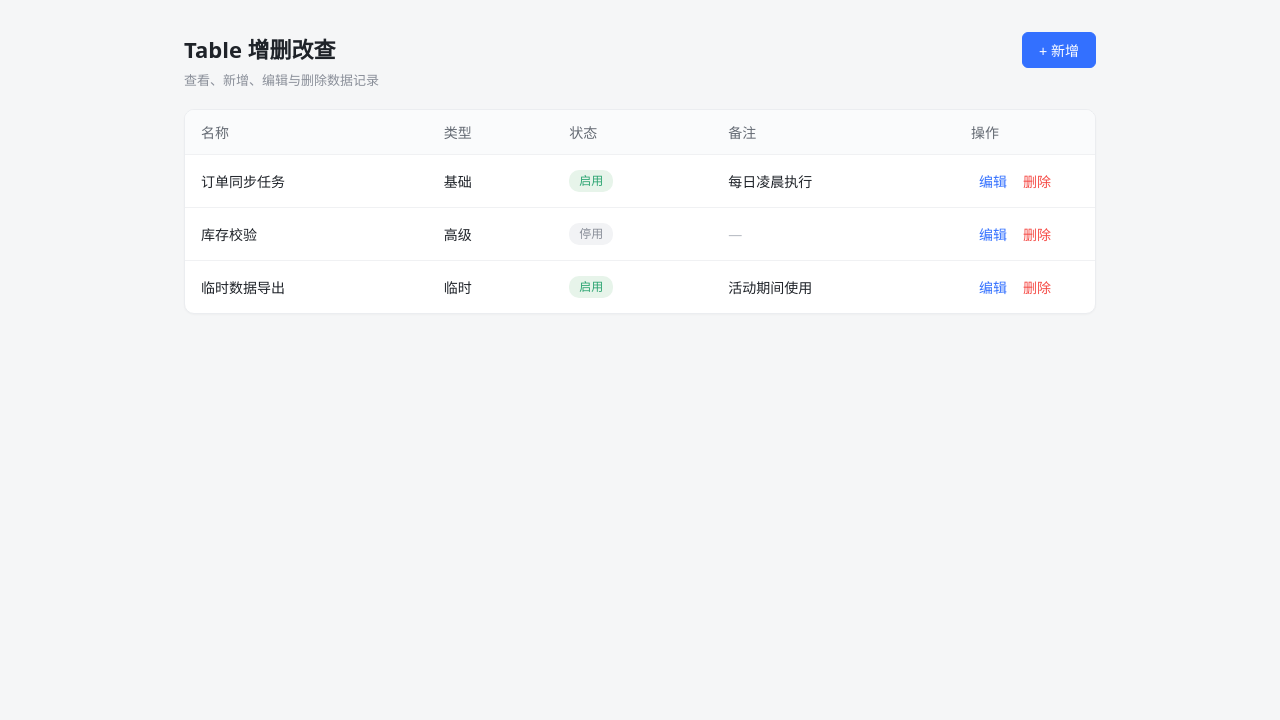
Test case: App CRUD 流程 › 校验：必填项为空时不提交
Expected: the text "订单同步任务" is shown, [185,154,428,208]
Click the button "+ 新增": (1059, 50) [1022,32,1096,68]
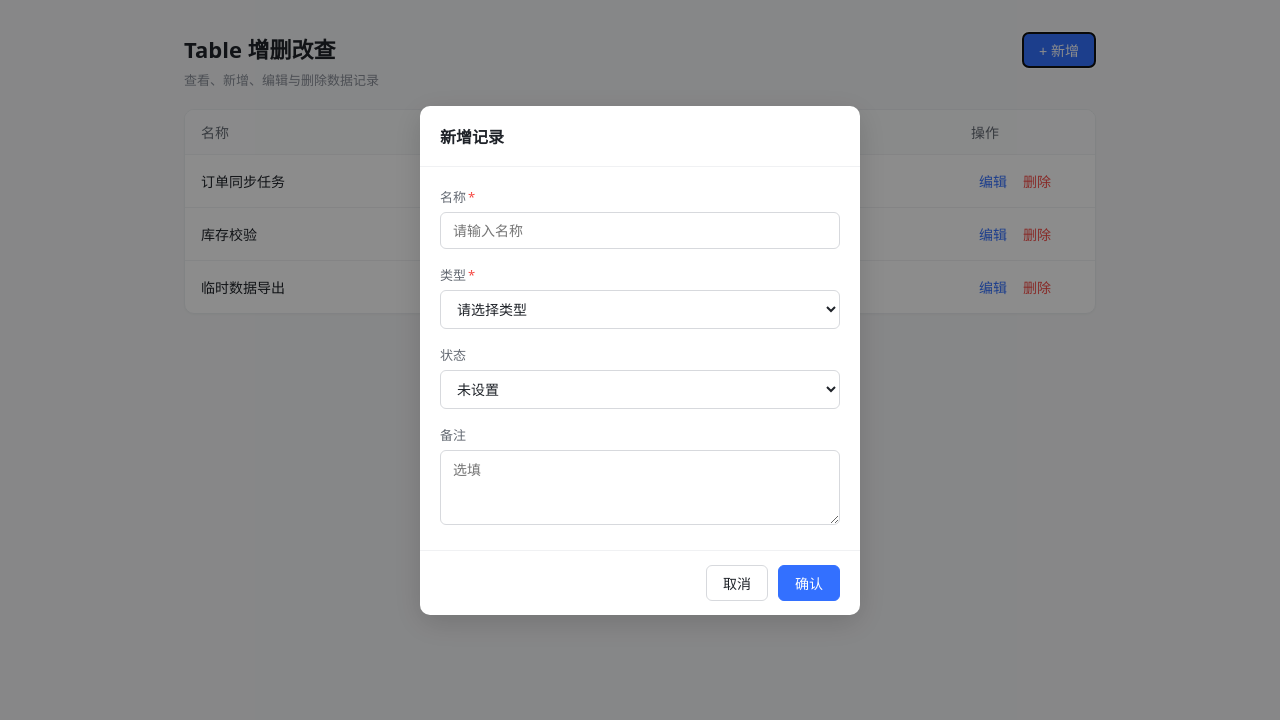
Click the button "确认": (809, 582) [778,564,840,600]
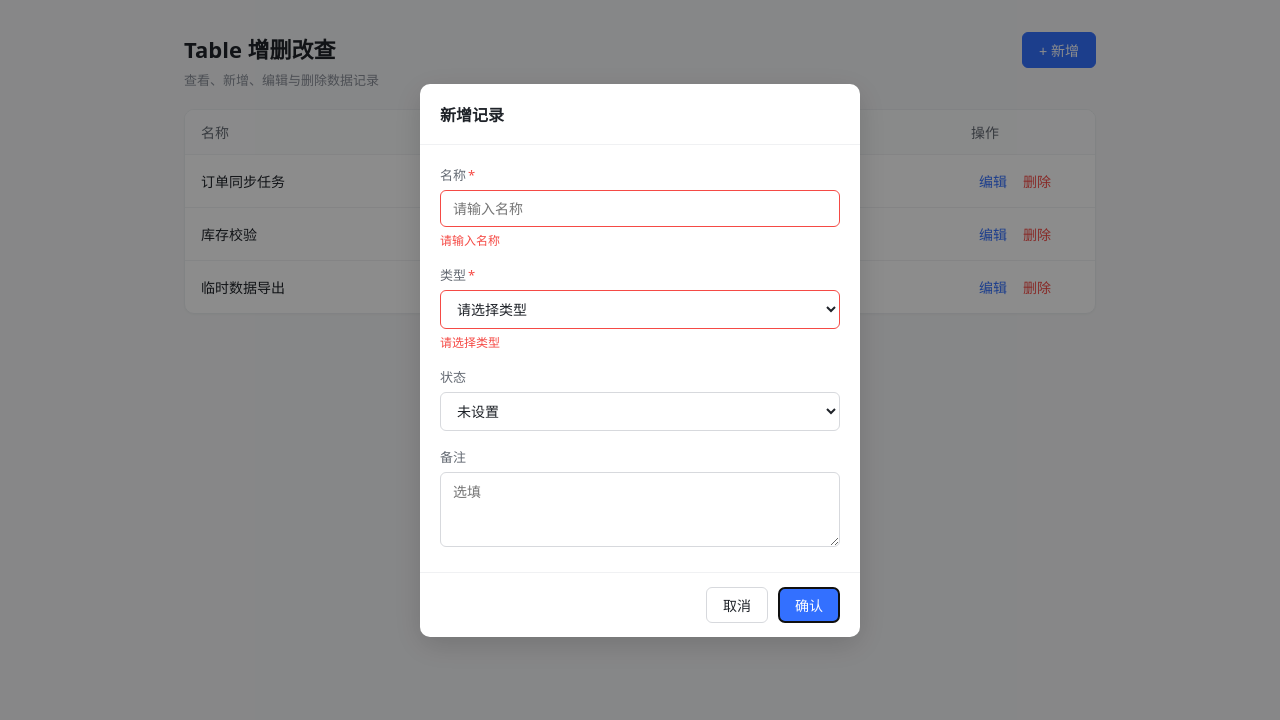
Now the text "新增记录" is shown, box [420,84,860,144]
Now the text "请输入名称" is shown, box [440,232,500,248]
Now the text "请选择类型" is shown, box [440,334,500,350]
